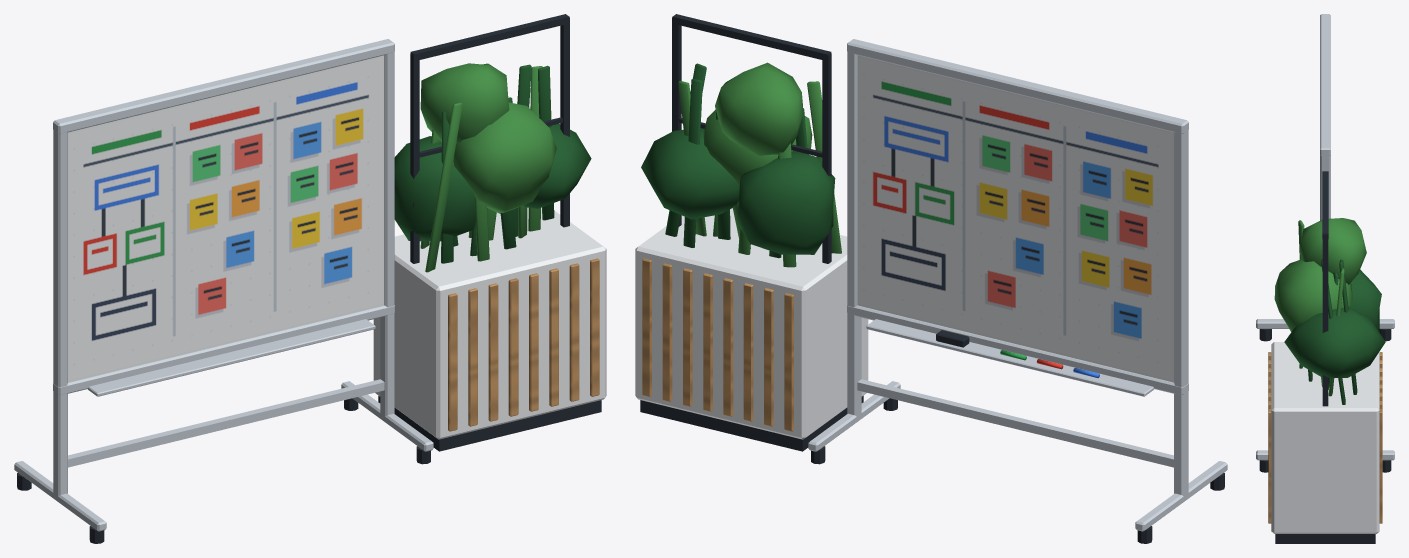
The model's file is prop_whiteboard_wall.glb.
3 renders of one model, left to right at view 1: azimuth 30°, elevation 25°; view 2: azimuth 150°, elevation 25°; view 3: azimuth 270°, elevation 25°, orthographic. The views are drawn at different scales.
Visible parts, largest first — view 1: WB_StickySurface, WB_PlanterBox, WB_AluminumStand, WB_PlantBright, WB_OakSlats, WB_PlantDeep, WB_DarkSteel; view 2: WB_StickySurface, WB_PlanterBox, WB_AluminumStand, WB_PlantDeep, WB_OakSlats, WB_PlantBright, WB_DarkSteel; view 3: WB_PlanterBox, WB_PlantDeep, WB_PlantBright, WB_DarkSteel, WB_AluminumStand, WB_OakSlats.
Part boxes in pixels (box(x1,y1,x2,y2)): WB_StickySurface: box(69, 57, 382, 380); WB_PlanterBox: box(68, 55, 606, 439); WB_AluminumStand: box(14, 39, 433, 531); WB_PlantBright: box(420, 63, 556, 272); WB_OakSlats: box(448, 258, 599, 431); WB_PlantDeep: box(394, 64, 591, 263); WB_DarkSteel: box(17, 14, 601, 543); WB_StickySurface: box(859, 57, 1172, 380); WB_PlanterBox: box(635, 55, 1173, 439); WB_AluminumStand: box(808, 39, 1227, 531); WB_PlantDeep: box(641, 63, 835, 258); WB_OakSlats: box(642, 258, 793, 431); WB_PlantBright: box(678, 62, 841, 267); WB_DarkSteel: box(640, 14, 1224, 543); WB_PlanterBox: box(1271, 342, 1379, 533); WB_PlantDeep: box(1284, 259, 1385, 404); WB_PlantBright: box(1274, 218, 1366, 396); WB_DarkSteel: box(1259, 171, 1391, 543); WB_AluminumStand: box(1256, 14, 1394, 460); WB_OakSlats: box(1268, 352, 1382, 523).
Size of the model in its own units: 2.63 by 1.85 by 0.72.
11 materials, 2 textured.
